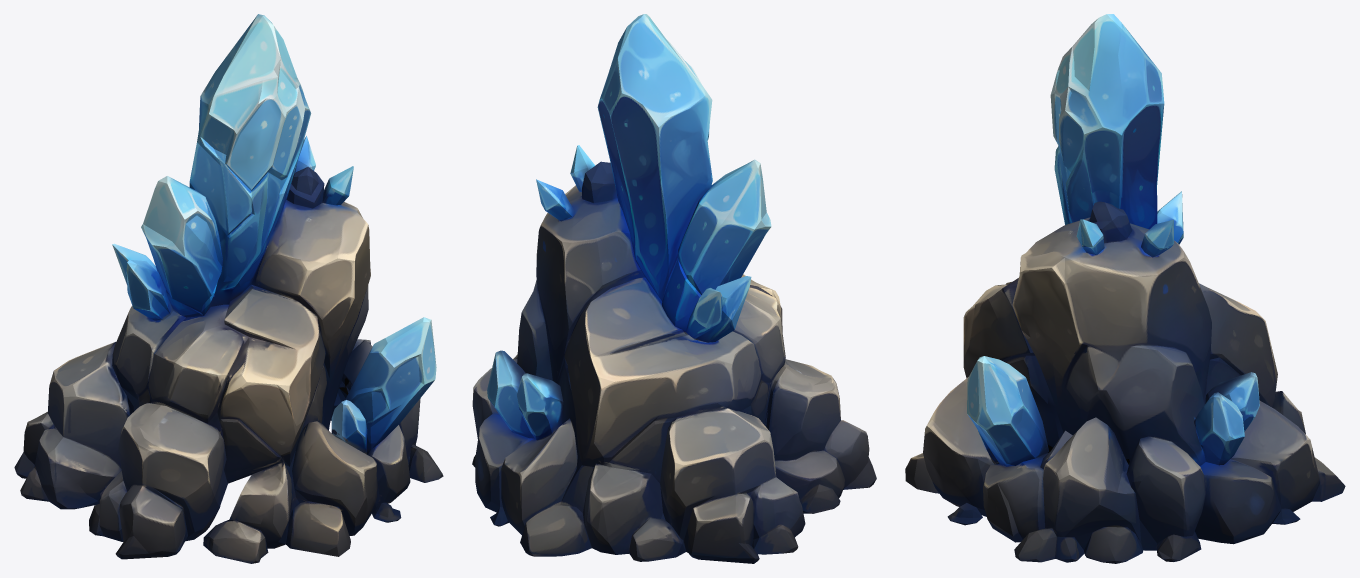
File: SM_Ore03.fbx
The picture shows the model from 3 angles, left to right: view 1: azimuth 30°, elevation 25°; view 2: azimuth 150°, elevation 25°; view 3: azimuth 270°, elevation 25°; orthographic projection. The views are drawn at different scales.
Parts seen in each view (by area): view 1: Ore03; view 2: Ore03; view 3: Ore03.
Boxes of the visible parts, x1,y1,x2,y2 form: Ore03: [14, 14, 443, 563]; Ore03: [472, 14, 876, 563]; Ore03: [905, 14, 1345, 563].
Bounding box in the file's own units: 120 × 156 × 130.
1 material, 1 textured.
